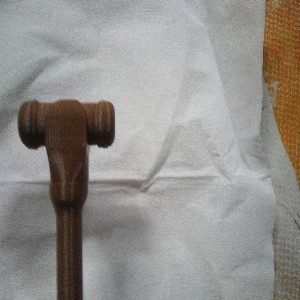palu: (17, 97, 116, 300)
